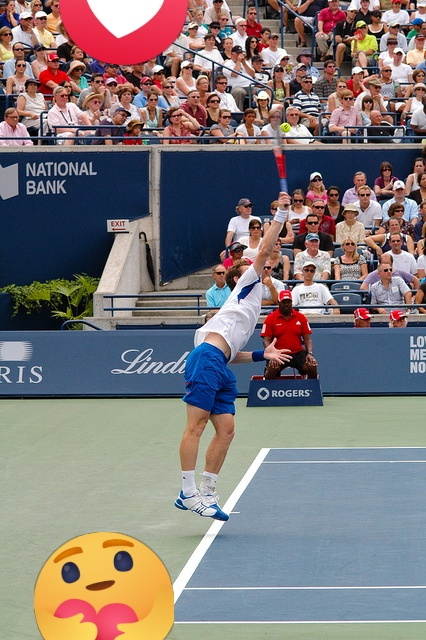care: (34, 532, 174, 640)
love: (59, 0, 188, 65)
